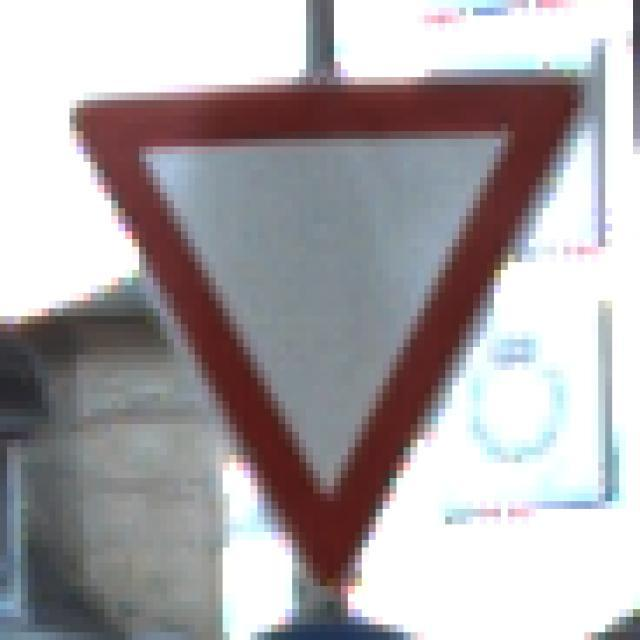give way: (63, 75, 590, 592)
